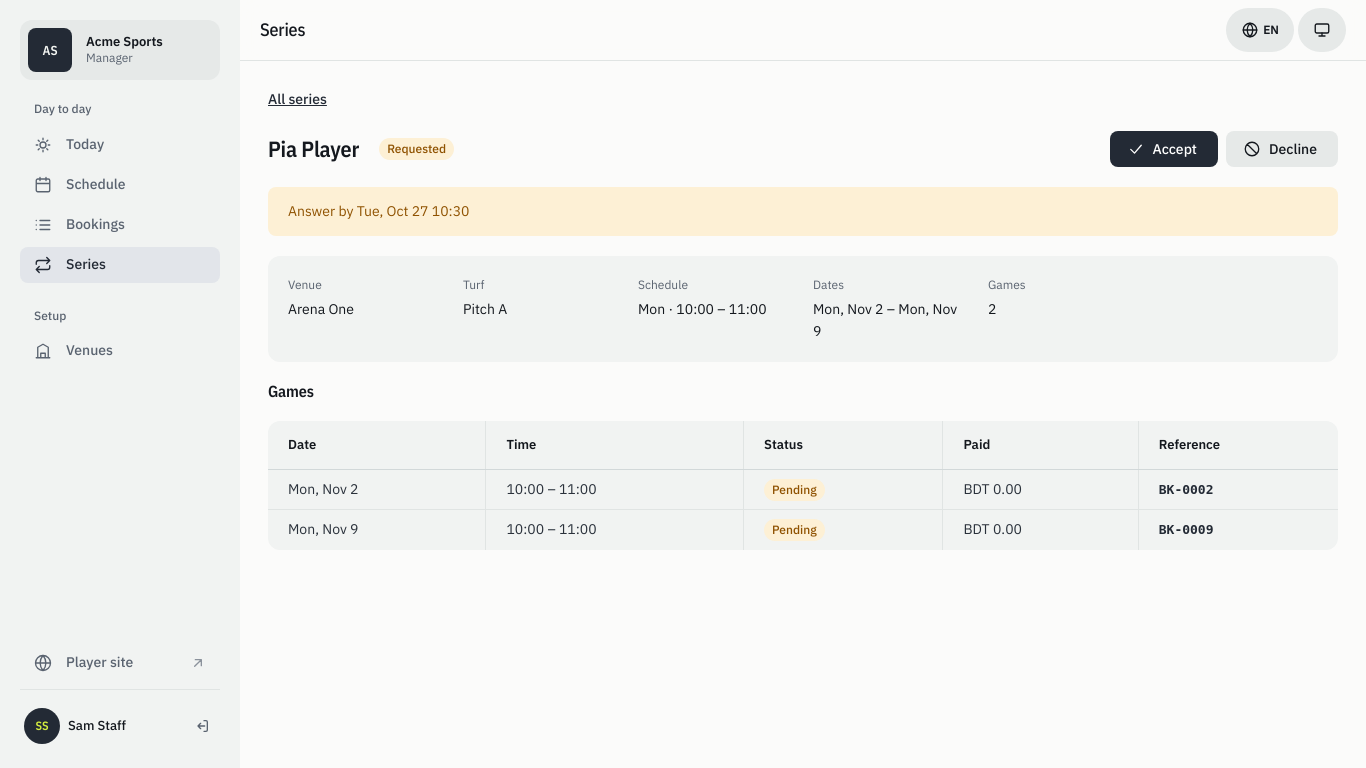
Owner series detail › requested series: accept posts and refreshes
This screenshot has width=1366, height=768.
Expected: the text "Answer by Tue, Oct 27 10:30" is shown, [268, 187, 1338, 236]
What coordinates should you click on to do the following:
click the button "Accept"
I would click on:
 (1164, 149)
Its box is [1110, 131, 1218, 167].
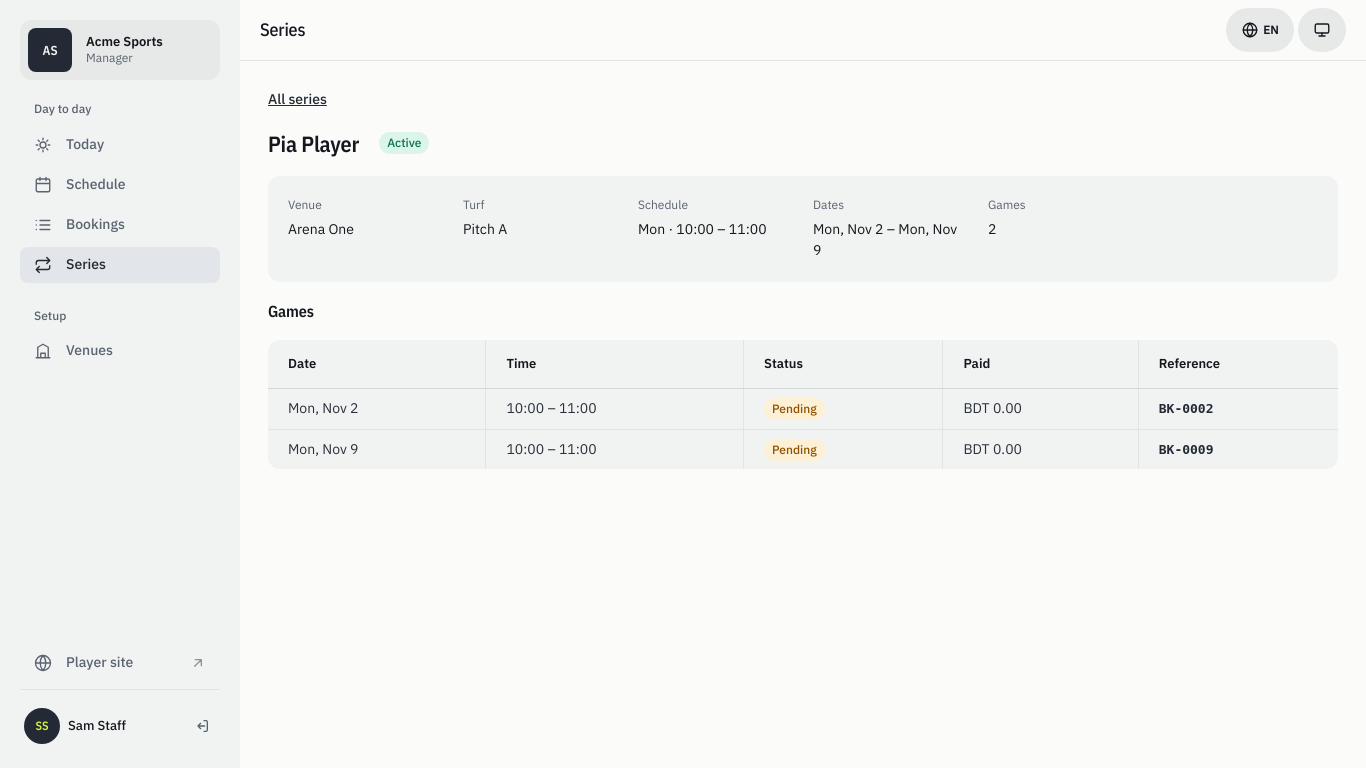
Now the button "Accept" is gone
Now the text "Answer by" is gone
